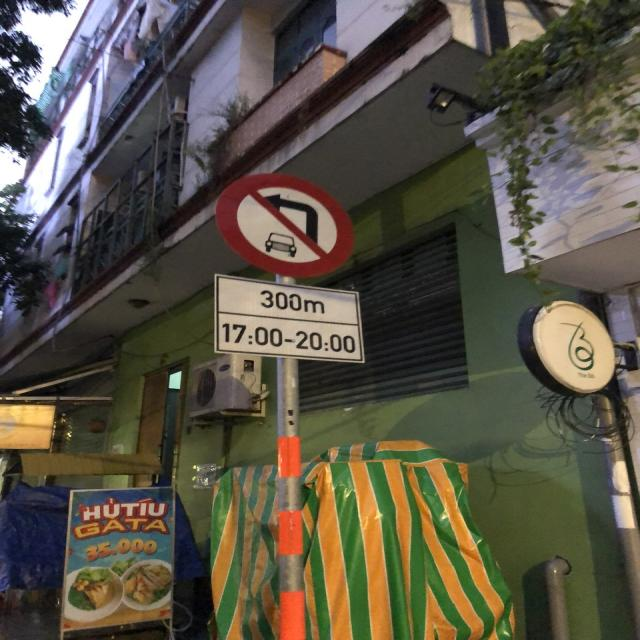Bien bao cam xe o to re trai: (205, 154, 367, 283)
